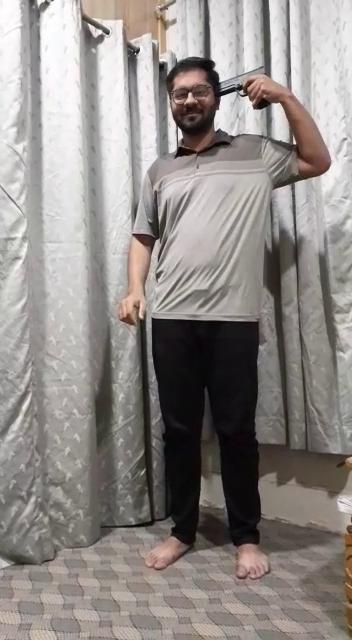criminal: (114, 55, 333, 583)
weapon: (218, 62, 280, 114)
